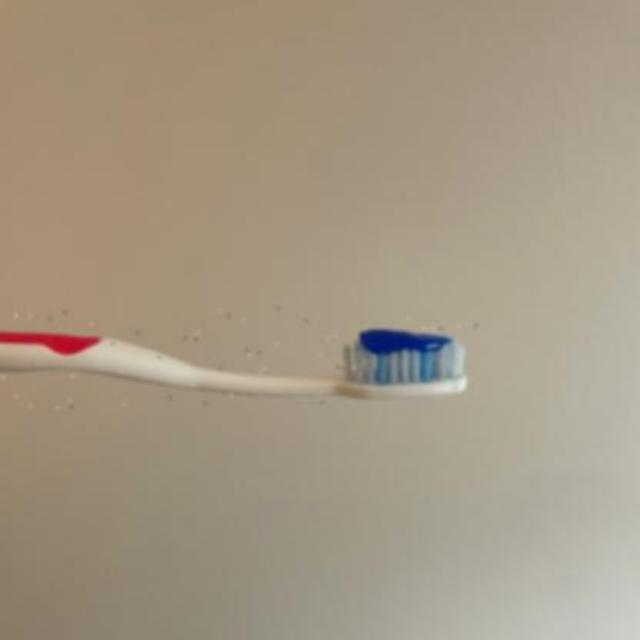toothbrush: (1, 305, 483, 409)
